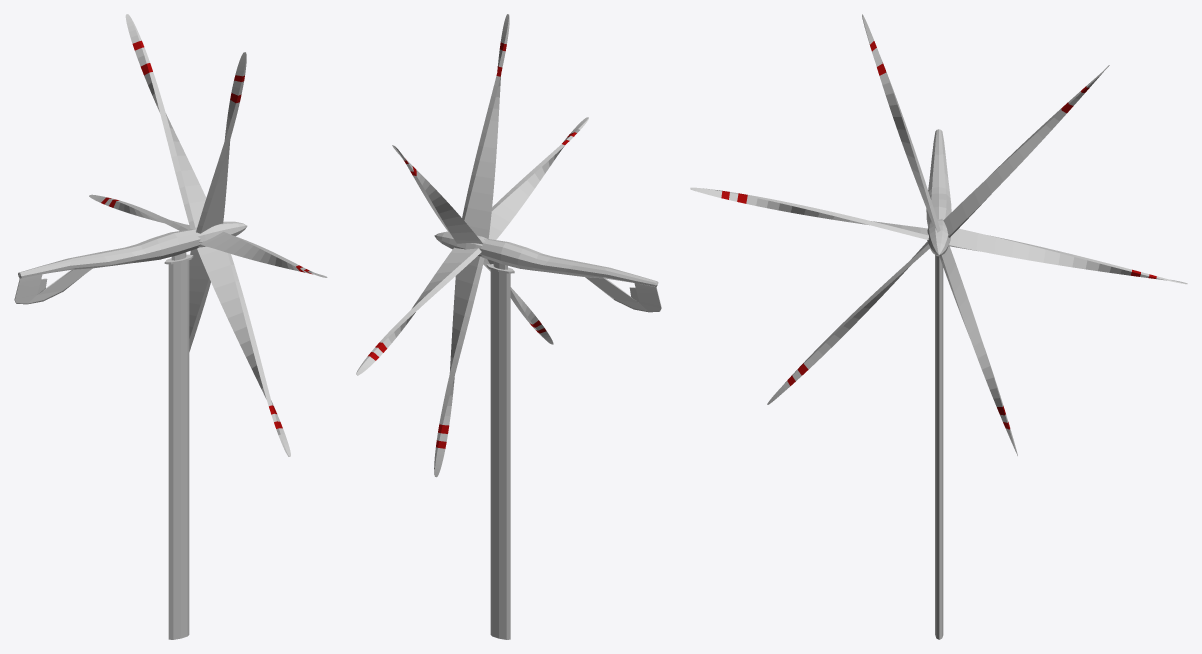
Rendered from WindMillAdvanced_Collision.fbx.
3 renders of one model, left to right at view 1: azimuth 30°, elevation 25°; view 2: azimuth 150°, elevation 25°; view 3: azimuth 270°, elevation 25°, orthographic. The views are drawn at different scales.
Visible parts, largest first — view 1: WindmillAdvanced1; view 2: WindmillAdvanced1; view 3: WindmillAdvanced1.
Part boxes in pixels (x1,y1,x2,y2): WindmillAdvanced1: (14,14,327,639); WindmillAdvanced1: (356,14,661,639); WindmillAdvanced1: (690,14,1187,639).
Bounding box in the file's own units: 26.48 × 65.67 × 46.6.
